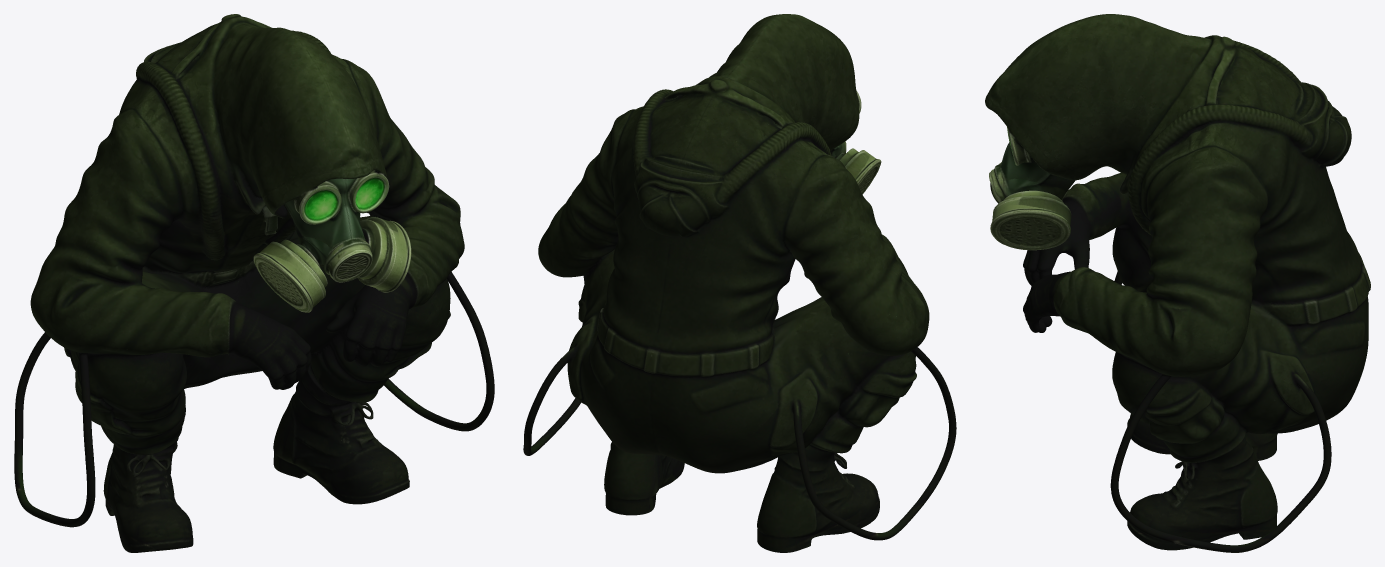
File: snork_mutant.glb
3 views of the same model, side by side, from view 1: azimuth 30°, elevation 25°; view 2: azimuth 150°, elevation 25°; view 3: azimuth 270°, elevation 25° (orthographic). The views are drawn at different scales.
Bounding box in the file's own units: 1.6 × 1.9 × 1.4.
1 material, 1 textured.
